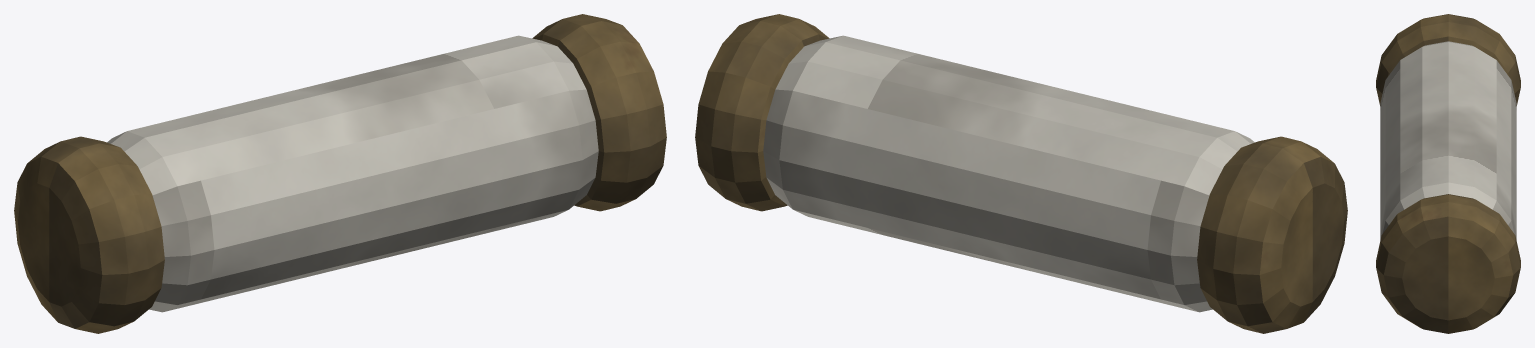
File: G04_ceramic_fuse.glb
3 views of the same model, side by side, from view 1: azimuth 30°, elevation 25°; view 2: azimuth 150°, elevation 25°; view 3: azimuth 270°, elevation 25° (orthographic). The views are drawn at different scales.
Visible parts, largest first — view 1: G04_ceramic_fuse; view 2: G04_ceramic_fuse; view 3: G04_ceramic_fuse.
Part boxes in pixels (x1,y1,x2,y2): G04_ceramic_fuse: (14,14,666,333); G04_ceramic_fuse: (695,14,1347,333); G04_ceramic_fuse: (1376,14,1520,333).
Size of the model in its own units: 0.1 by 0.0293 by 0.0293.
Materials: 2 (2 with a texture image).
